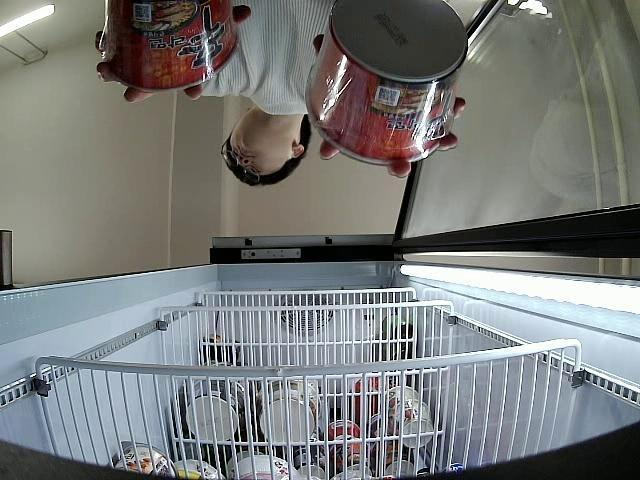01_ShinRamen_L: (306, 0, 468, 166), (104, 0, 240, 92)
